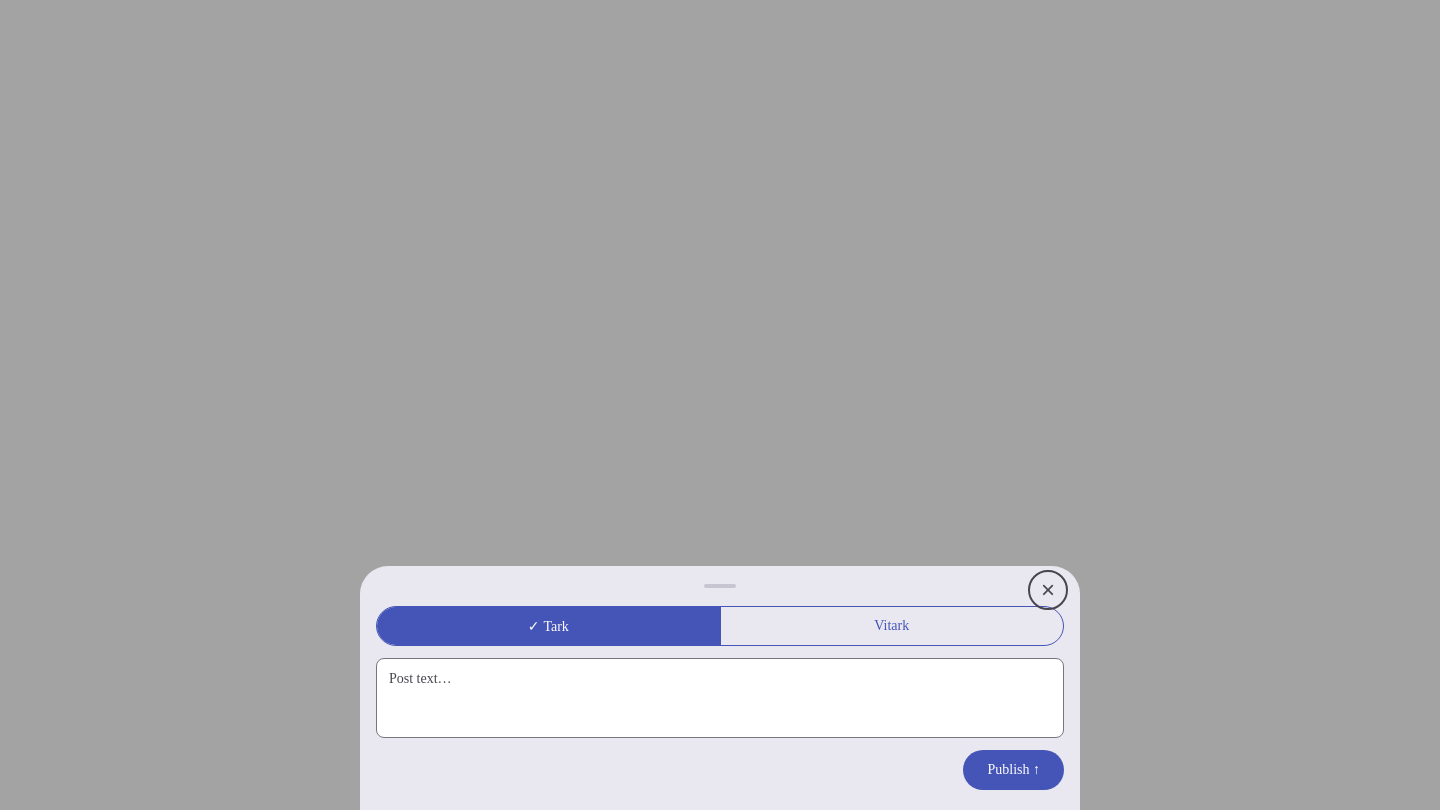
PodiumBottomSheet accessibility semantics › validation error announces via alert + polite live region
This screenshot has width=1440, height=810.
Click the button with aria-label "Publish post": click(1014, 770) [964,750,1064,790]
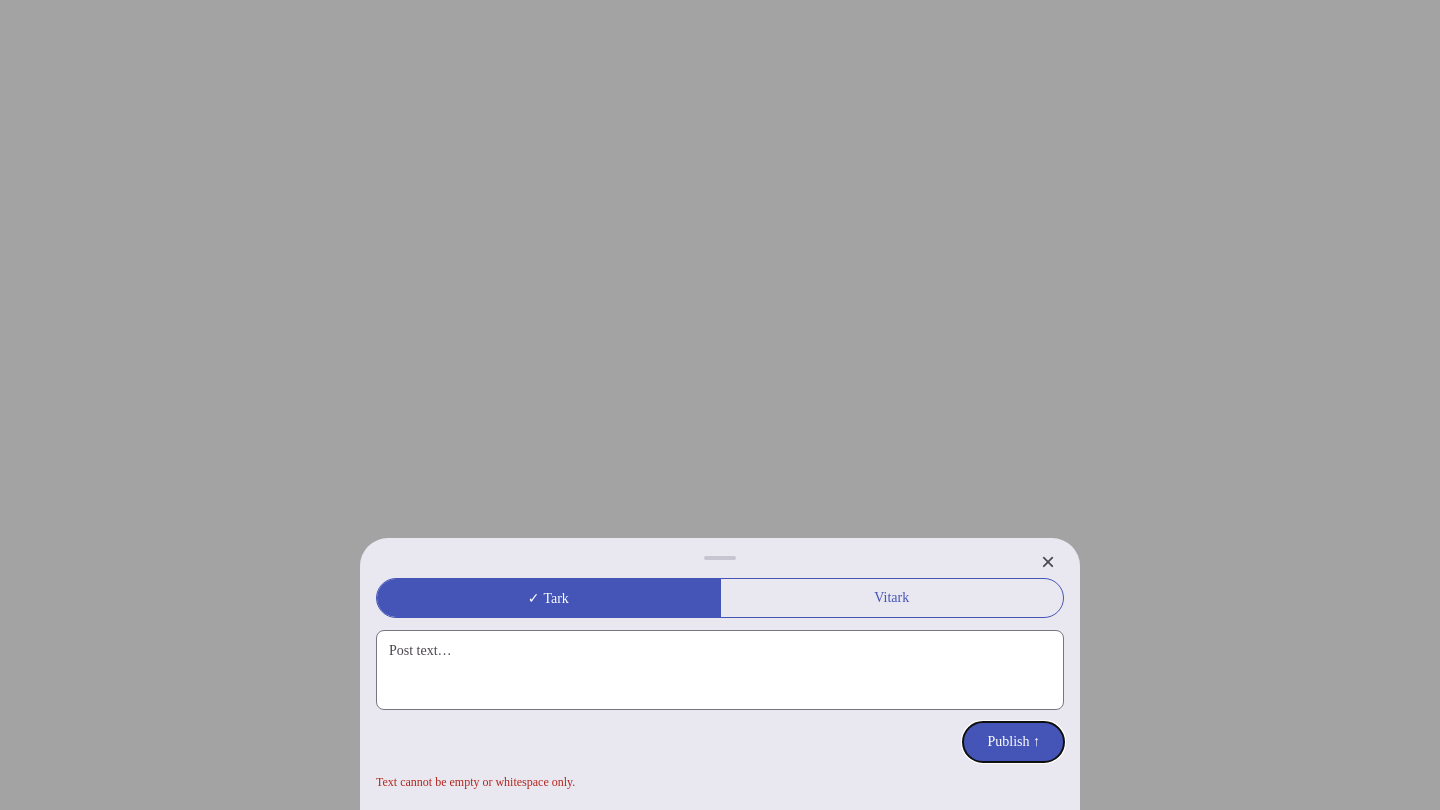
Expected: the message reads "Text cannot be empty or whitespace only.", [376,775,575,789]
